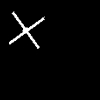single_crochet: (9, 12, 43, 48)
